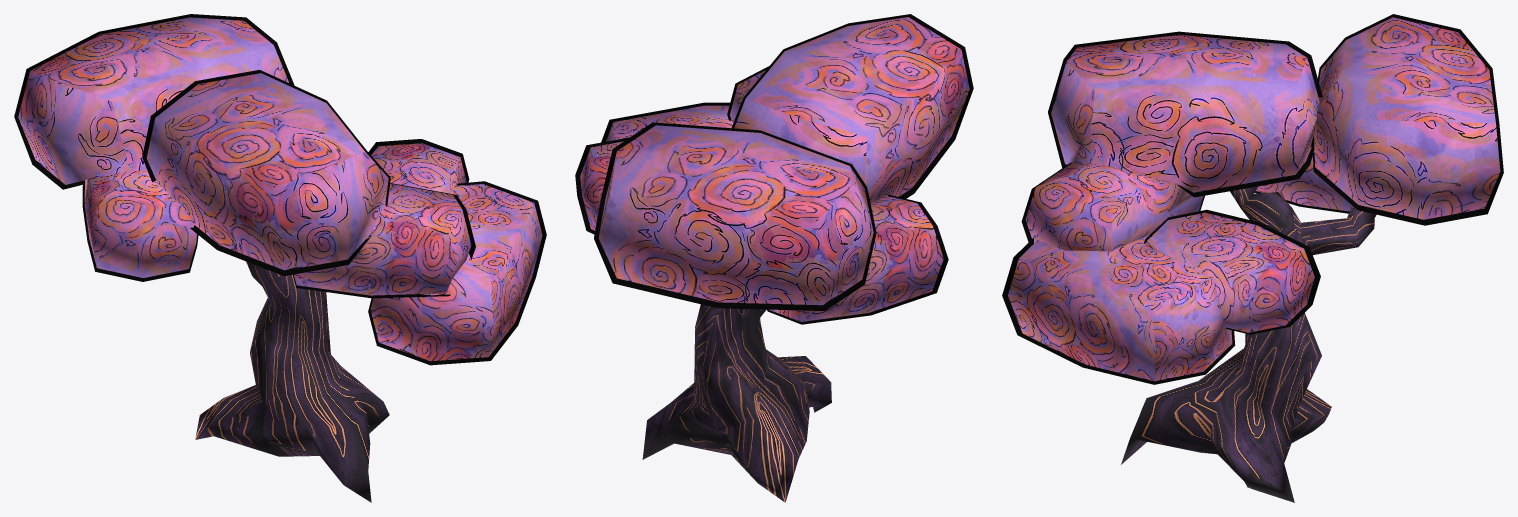
Rendered from s0_Tree_02__1__01.glb.
The picture shows the model from 3 angles, left to right: view 1: azimuth 30°, elevation 25°; view 2: azimuth 150°, elevation 25°; view 3: azimuth 270°, elevation 25°; orthographic projection. The views are drawn at different scales.
Parts seen in each view (by area): view 1: node_Tree_02 (1); view 2: node_Tree_02 (1); view 3: node_Tree_02 (1).
Boxes of the visible parts, x1,y1,x2,y2 form: node_Tree_02 (1): [14, 14, 546, 502]; node_Tree_02 (1): [575, 14, 973, 502]; node_Tree_02 (1): [1002, 14, 1503, 502].
Size of what is drawn, in the model's own units: 12.79 by 11.74 by 14.03.
Materials: 3 (2 with a texture image).
